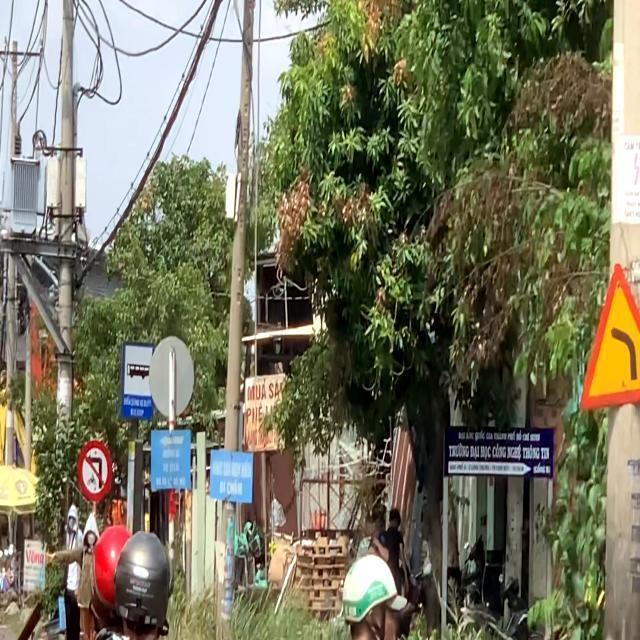201-cho-ngoat-nguy-hiem: (572, 264, 640, 411)
